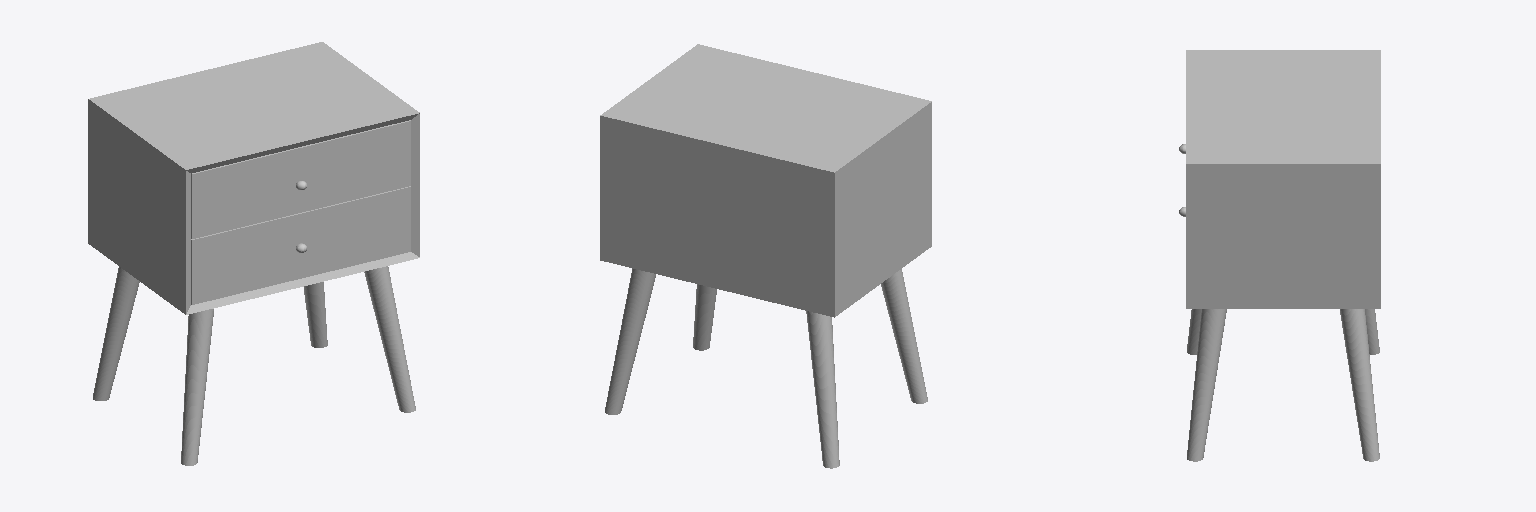
Rendered from mueble_1.obj.
3 views of the same model, side by side, from view 1: azimuth 30°, elevation 25°; view 2: azimuth 150°, elevation 25°; view 3: azimuth 270°, elevation 25° (orthographic).
Parts seen in each view (by area): view 1: Cube.074_Cube.355; view 2: Cube.074_Cube.355; view 3: Cube.074_Cube.355.
Part boxes in pixels (x1,y1,x2,y2): Cube.074_Cube.355: (88,42,419,465); Cube.074_Cube.355: (600,44,931,468); Cube.074_Cube.355: (1179,50,1380,461).
Bounding box in the file's own units: 0.475 × 0.5764 × 0.3545.